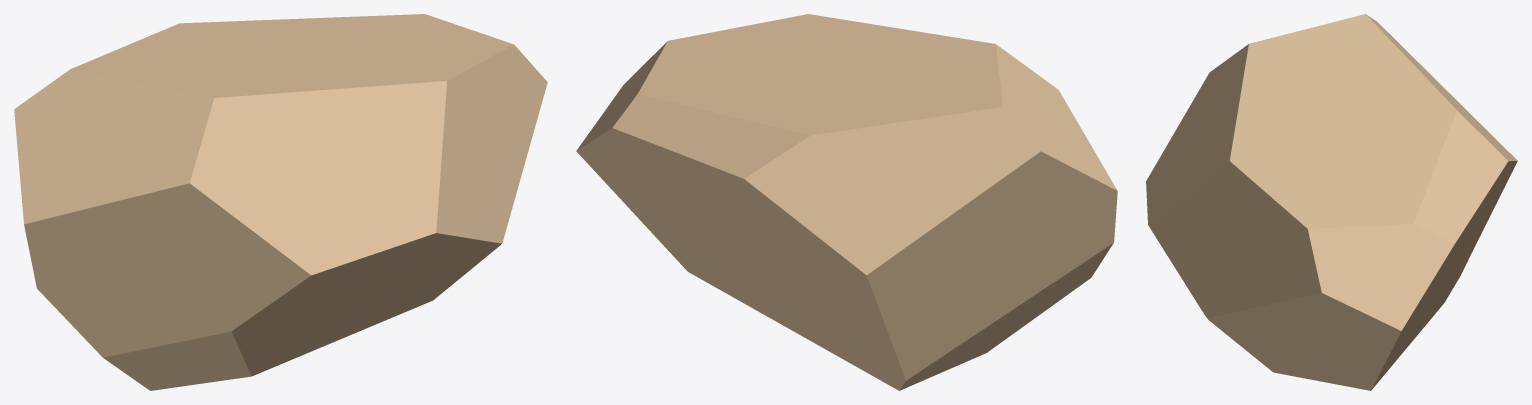
Rendered from nature_stone-oval.fbx.
3 renders of one model, left to right at view 1: azimuth 30°, elevation 25°; view 2: azimuth 150°, elevation 25°; view 3: azimuth 270°, elevation 25°, orthographic. The views are drawn at different scales.
Visible parts, largest first — view 1: nature_stone_oval; view 2: nature_stone_oval; view 3: nature_stone_oval.
Part boxes in pixels (x1,y1,x2,y2): nature_stone_oval: [14, 14, 547, 390]; nature_stone_oval: [576, 14, 1117, 390]; nature_stone_oval: [1146, 14, 1517, 390].
Bounding box in the file's own units: 200 × 110 × 138.
